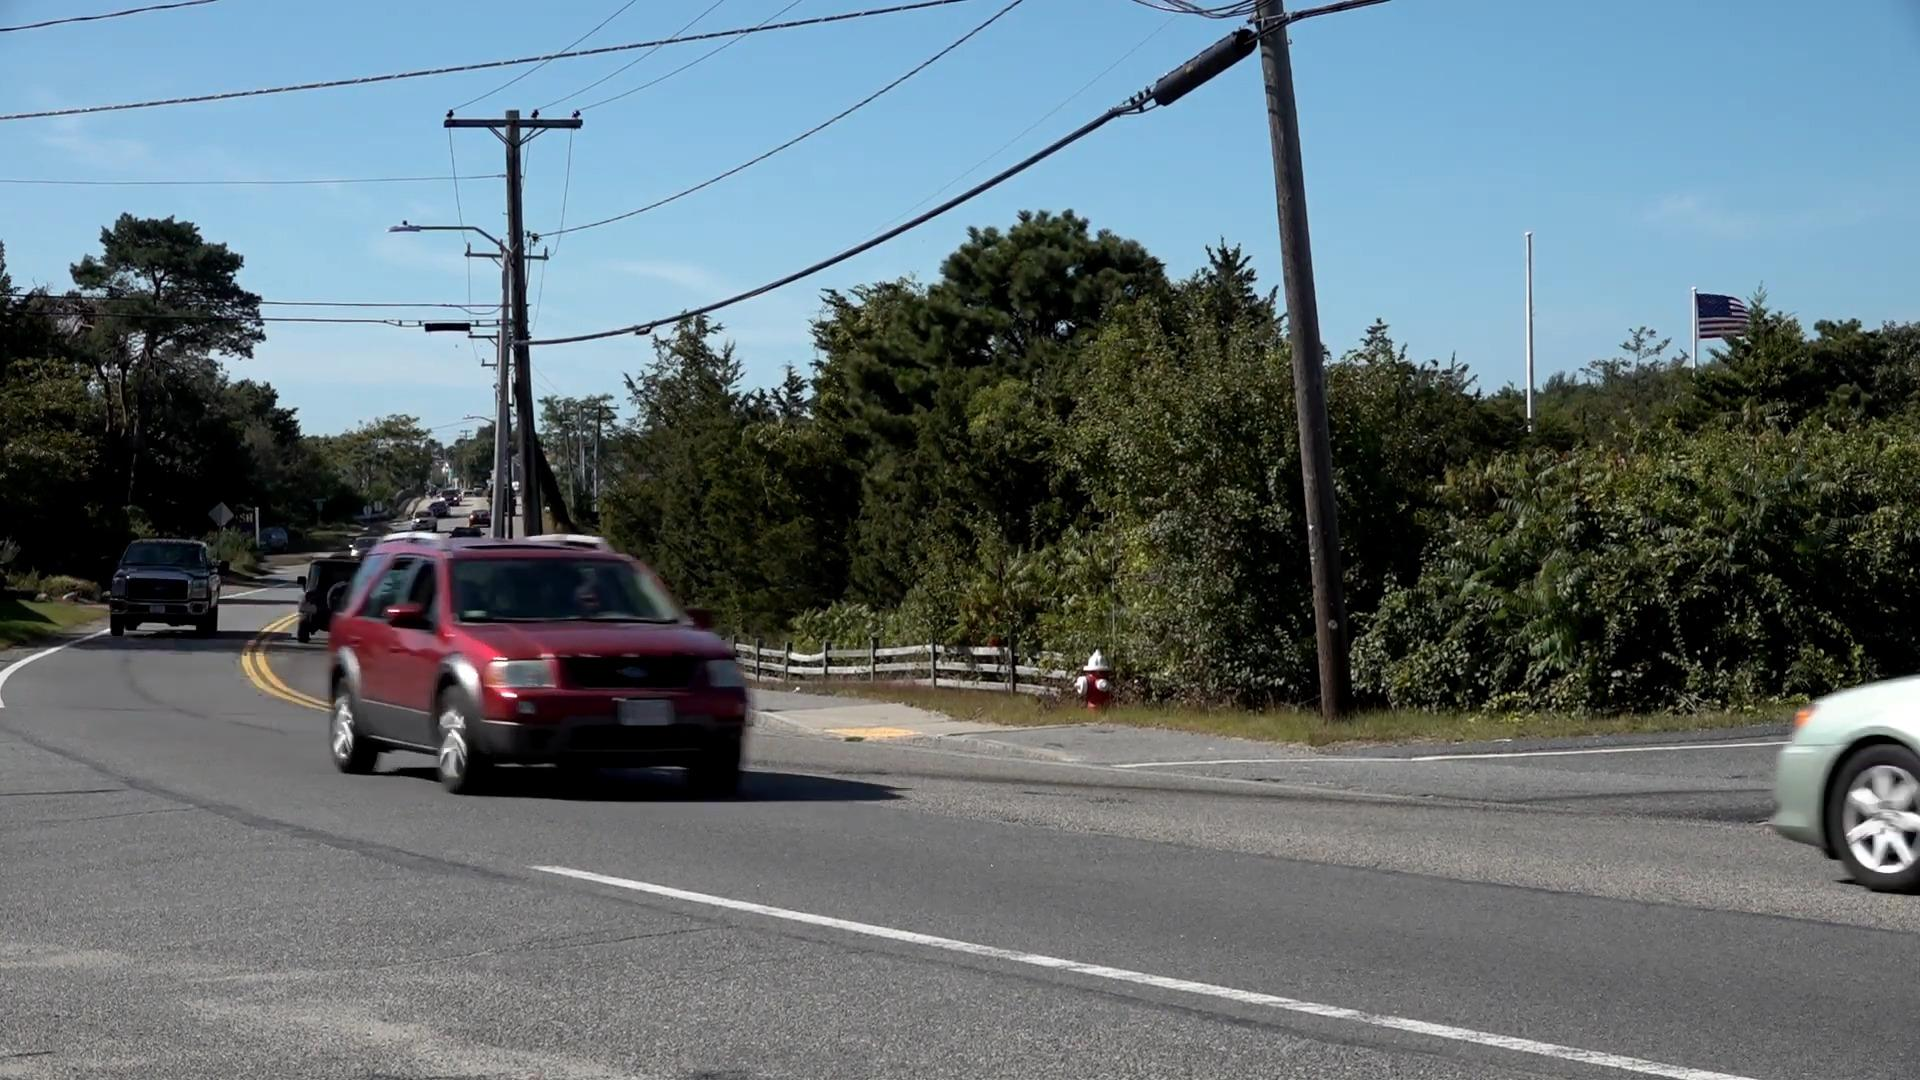pickup: (103, 529, 227, 646)
suv: (328, 524, 756, 795)
